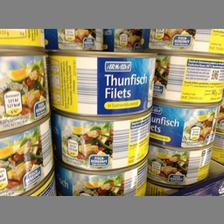Fisch: (48, 50, 156, 118), (49, 108, 151, 168), (0, 47, 52, 132), (0, 114, 52, 194), (154, 47, 222, 103), (146, 97, 222, 147), (54, 162, 150, 196), (144, 140, 212, 182)
